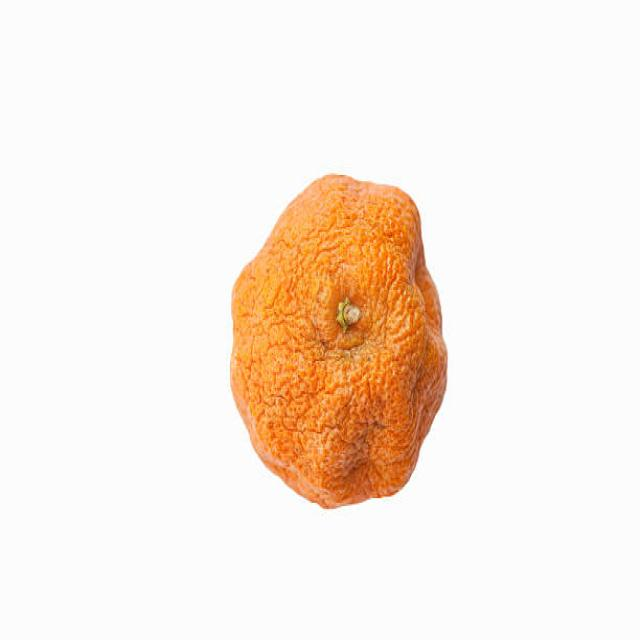overripe: (222, 166, 457, 518)
